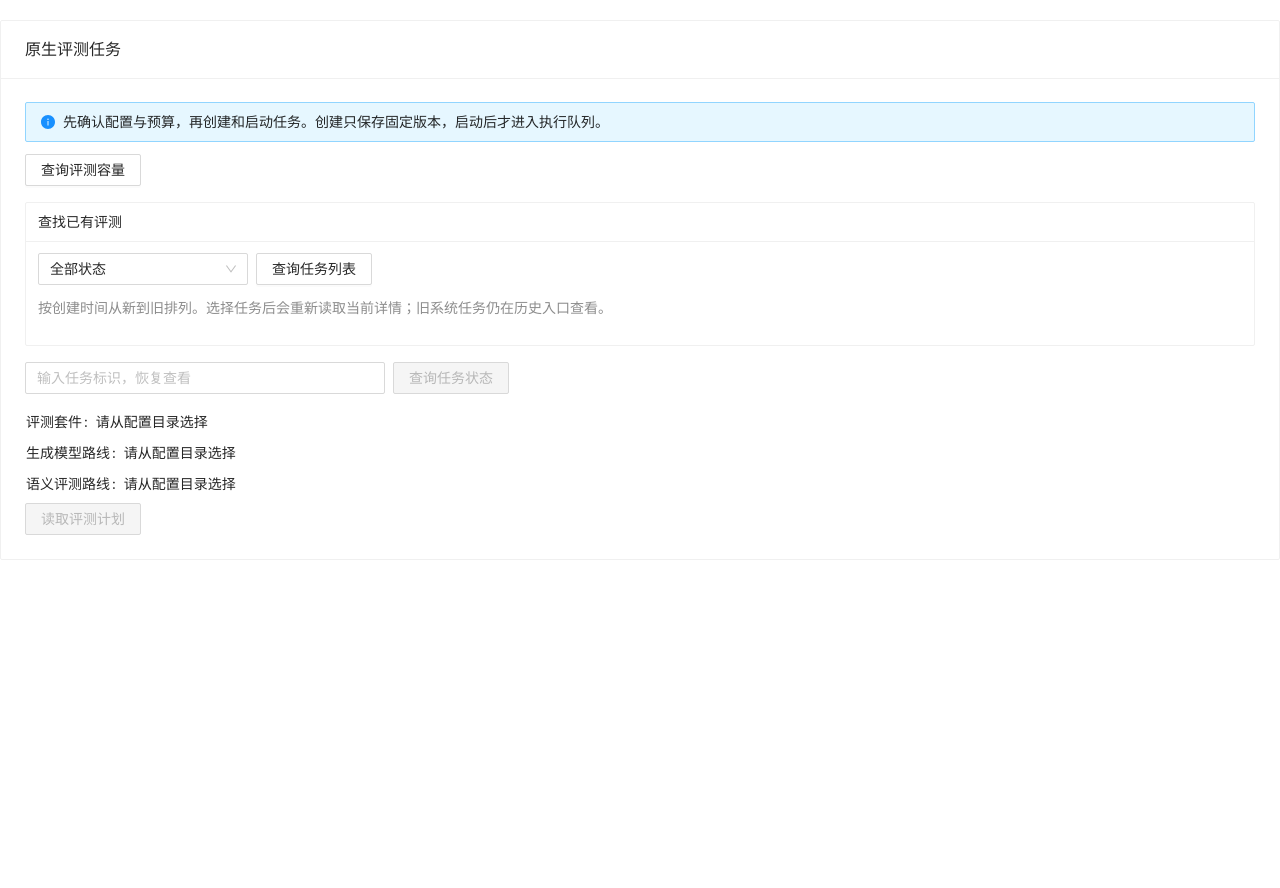
Test: disables replacement when current server view does not allow it
Type "44444444-4444-4444-8444-444444444444" into the field named "评测任务标识" at [205, 378], box [25,362,385,394]
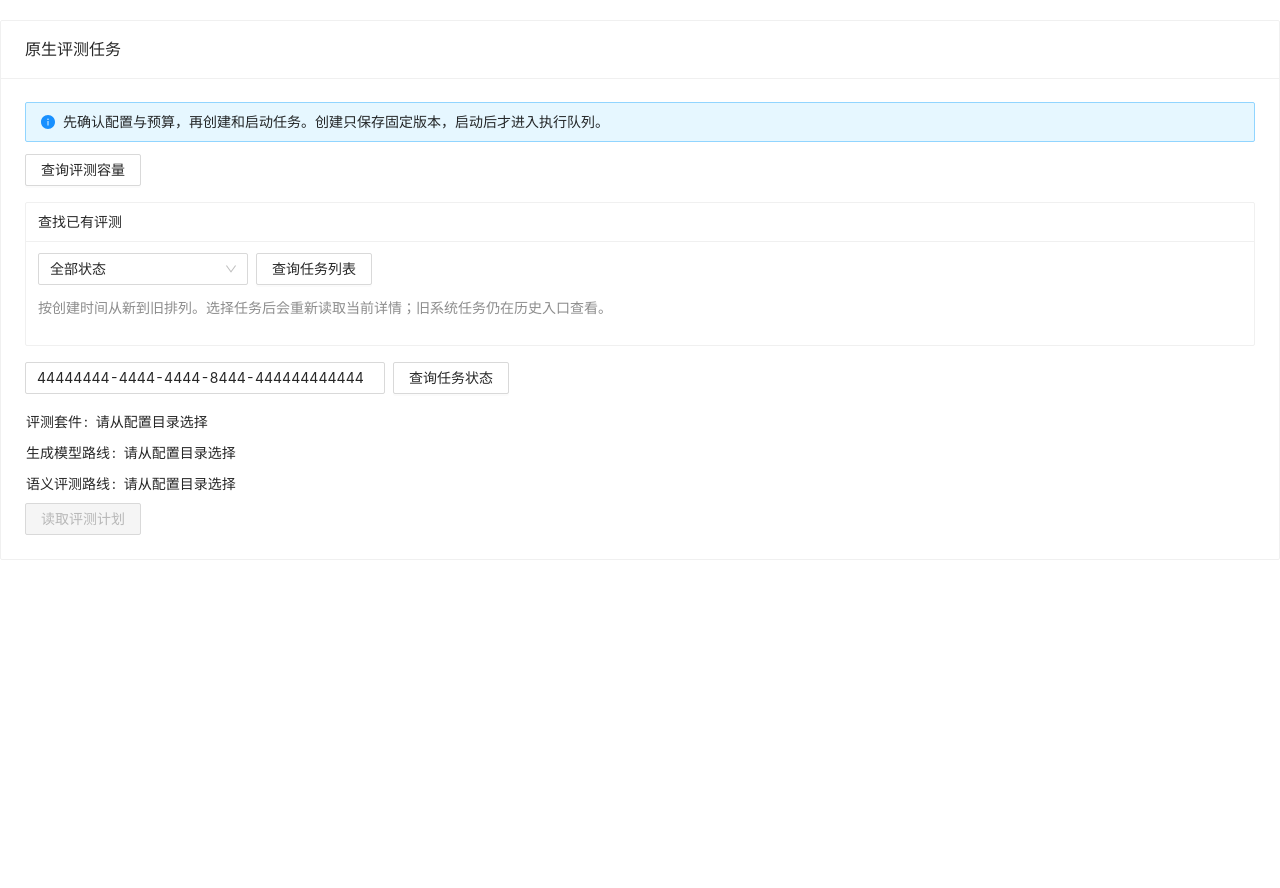
Click the button "查询任务状态" at [451, 378], box [393,362,509,394]
(page scrolled)
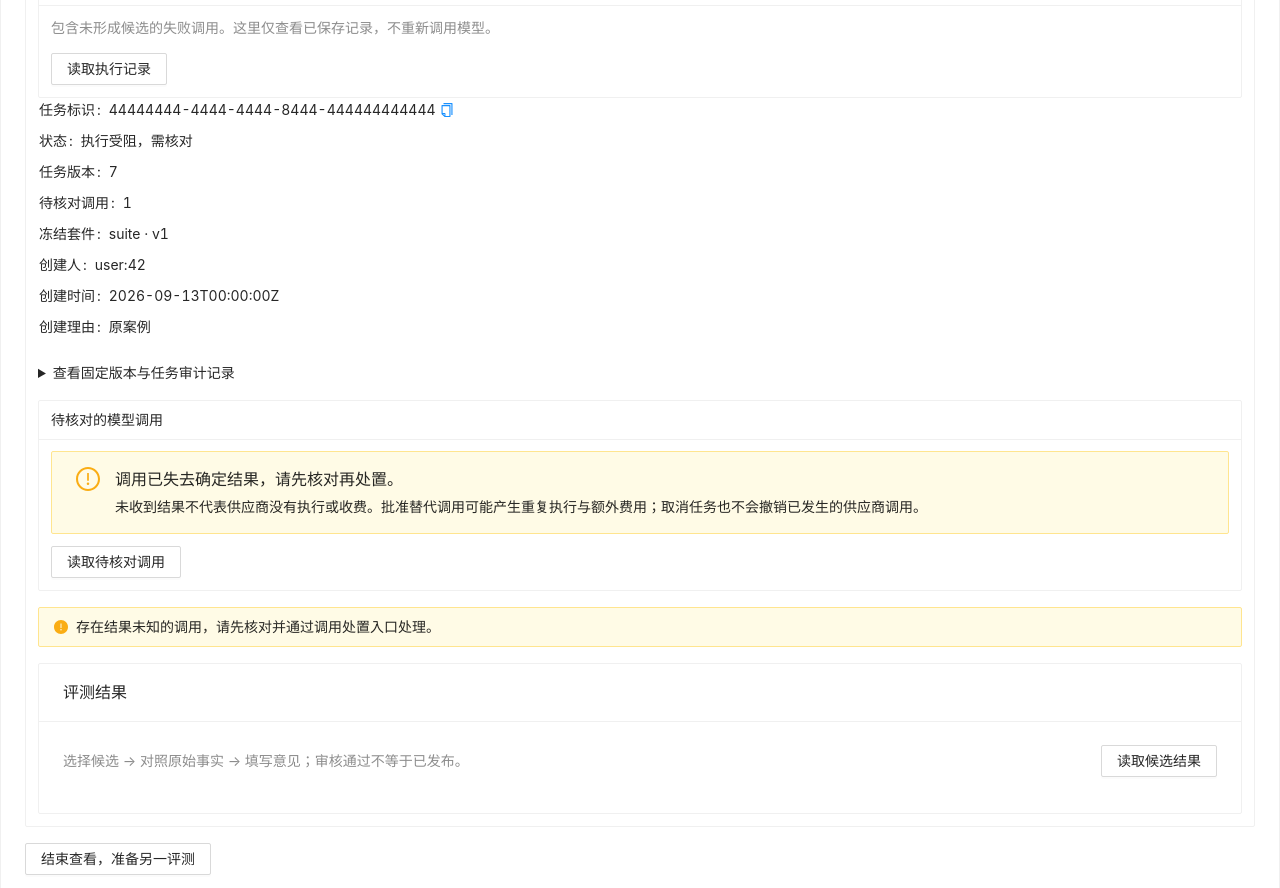
Result: the text "执行受阻，需核对" is shown at [81,132,193,149]
Click the button "读取待核对调用" at [116, 562], box [51,546,181,578]
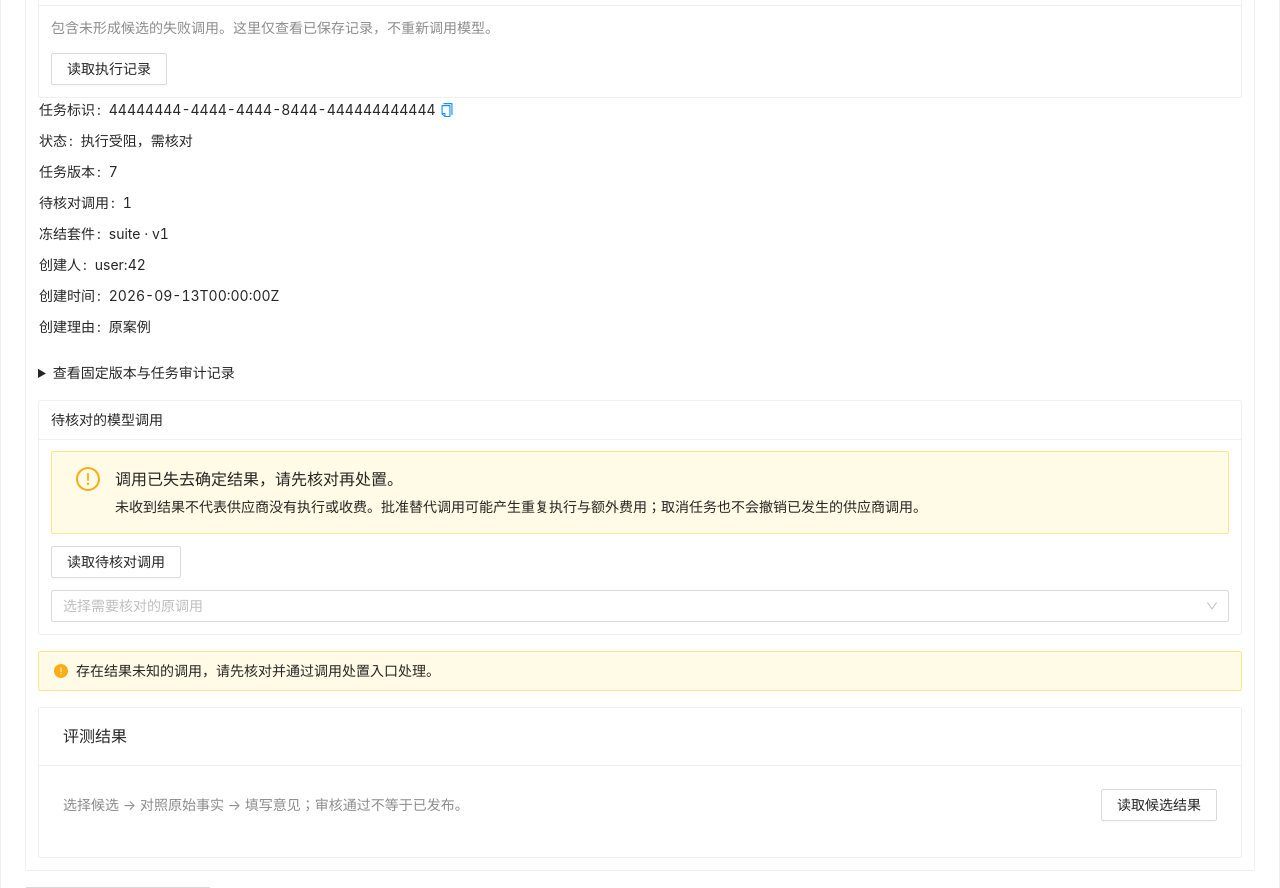
Result: the element named "待核对调用" is shown
Press the mouse on the dropdown named "待核对调用" at [640, 606], box [51,590,1229,622]
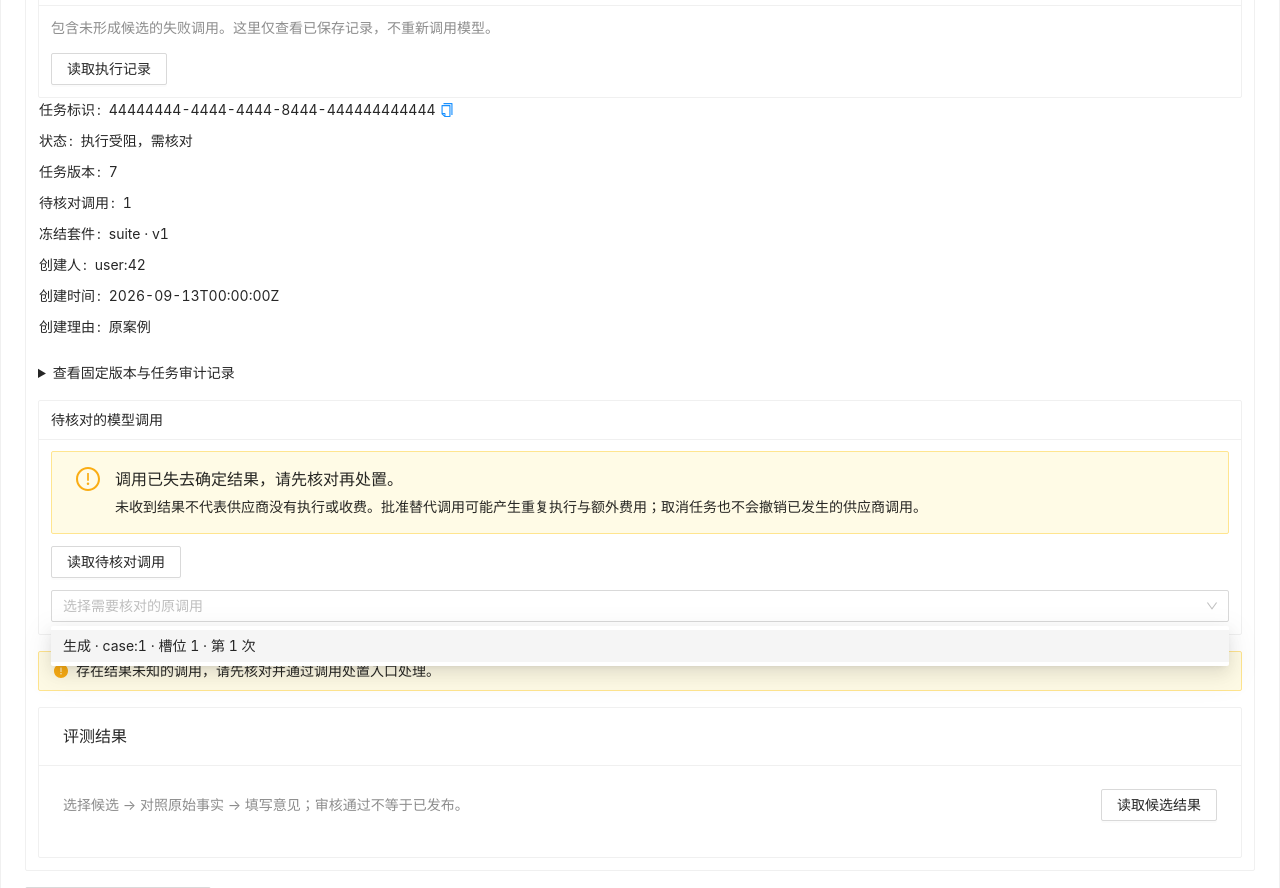
Click the text "生成 · case:1 · 槽位 1 · 第 1 次" at [159, 646], box [63,637,256,654]
(page scrolled)
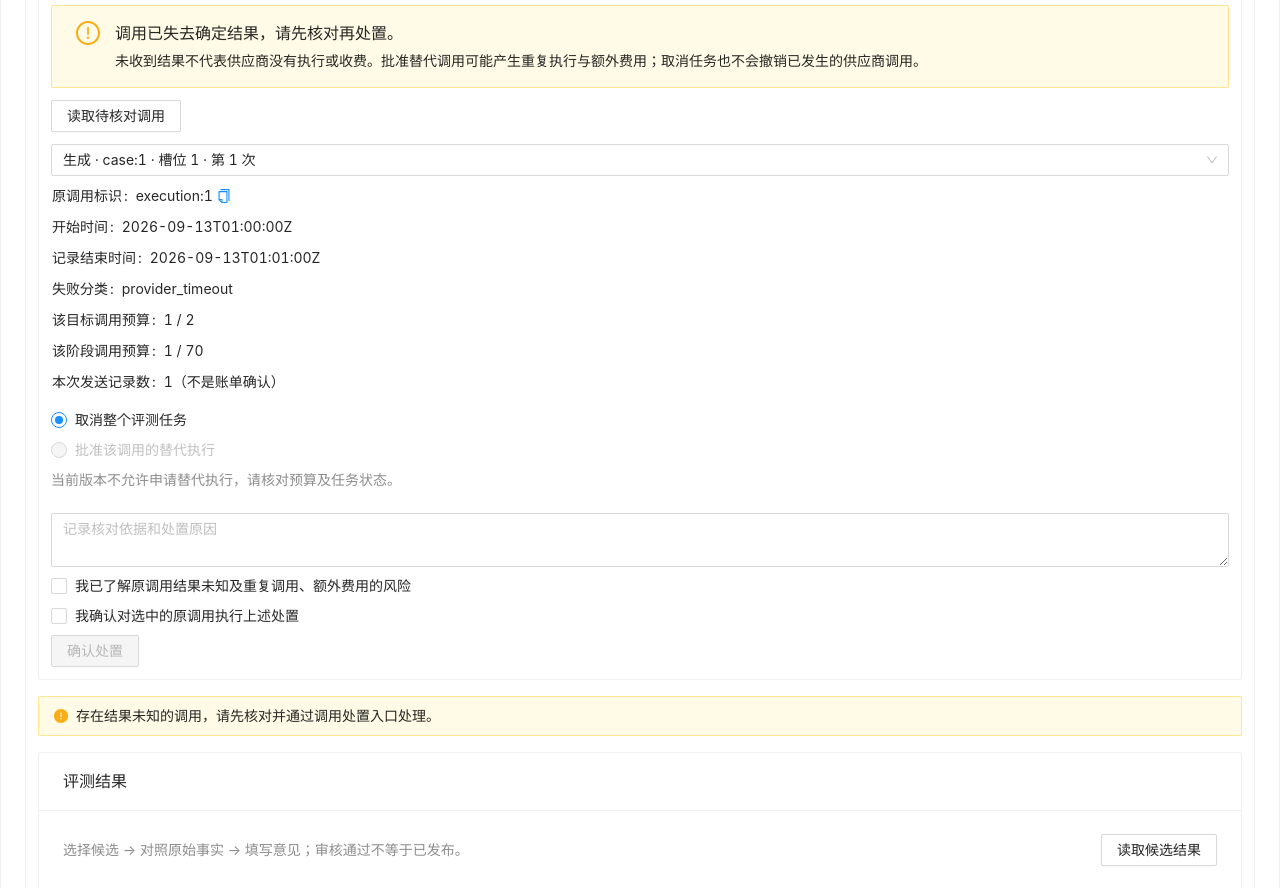
Result: the text box named "调用处置理由" is shown at [51,513,1229,567]
Result: the radio button labelled "批准该调用的替代执行" is disabled at [51,439,223,461]
